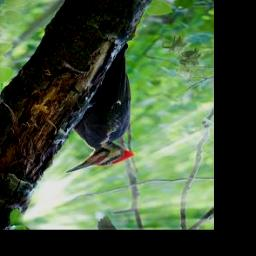Woodpecker: (64, 43, 136, 175)
